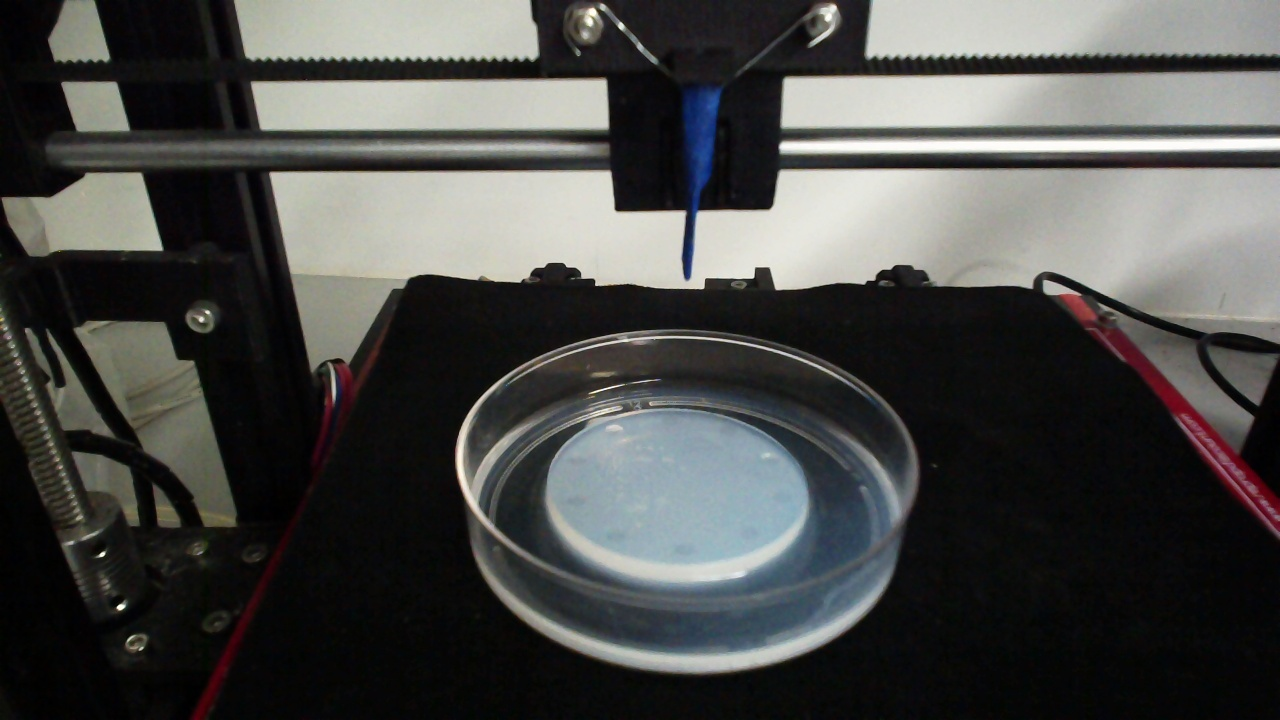groove: (602, 527, 631, 546), (734, 524, 761, 542), (565, 451, 591, 469), (757, 449, 783, 466), (770, 488, 793, 507), (671, 540, 697, 556), (564, 492, 587, 510), (714, 423, 740, 438), (659, 412, 681, 429), (603, 422, 625, 438)
needle: (681, 83, 722, 279)
